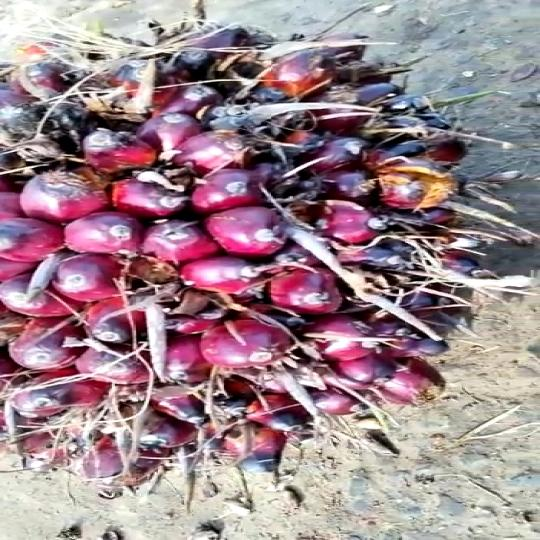masak: (0, 12, 489, 540)
